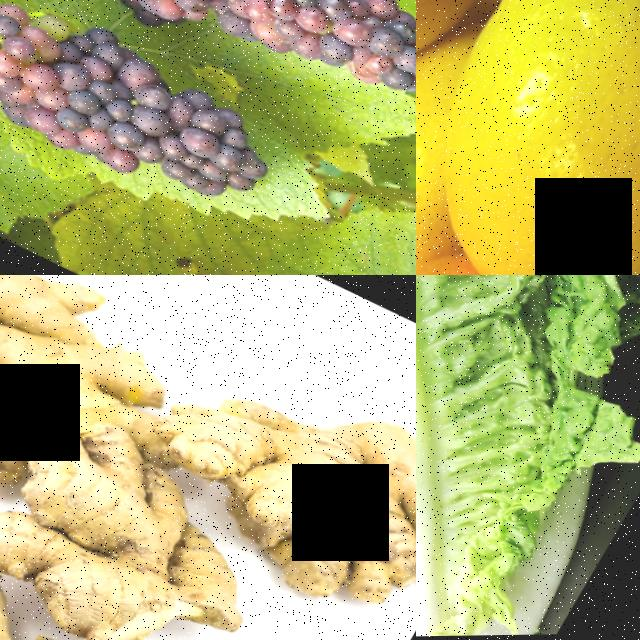ginger: (0, 381, 262, 640), (120, 355, 405, 575), (0, 275, 145, 502), (295, 428, 416, 640)
grapes: (0, 0, 311, 232), (26, 0, 416, 143)
lemon: (416, 0, 640, 275), (416, 0, 552, 123)
lettuce: (416, 275, 640, 539)
